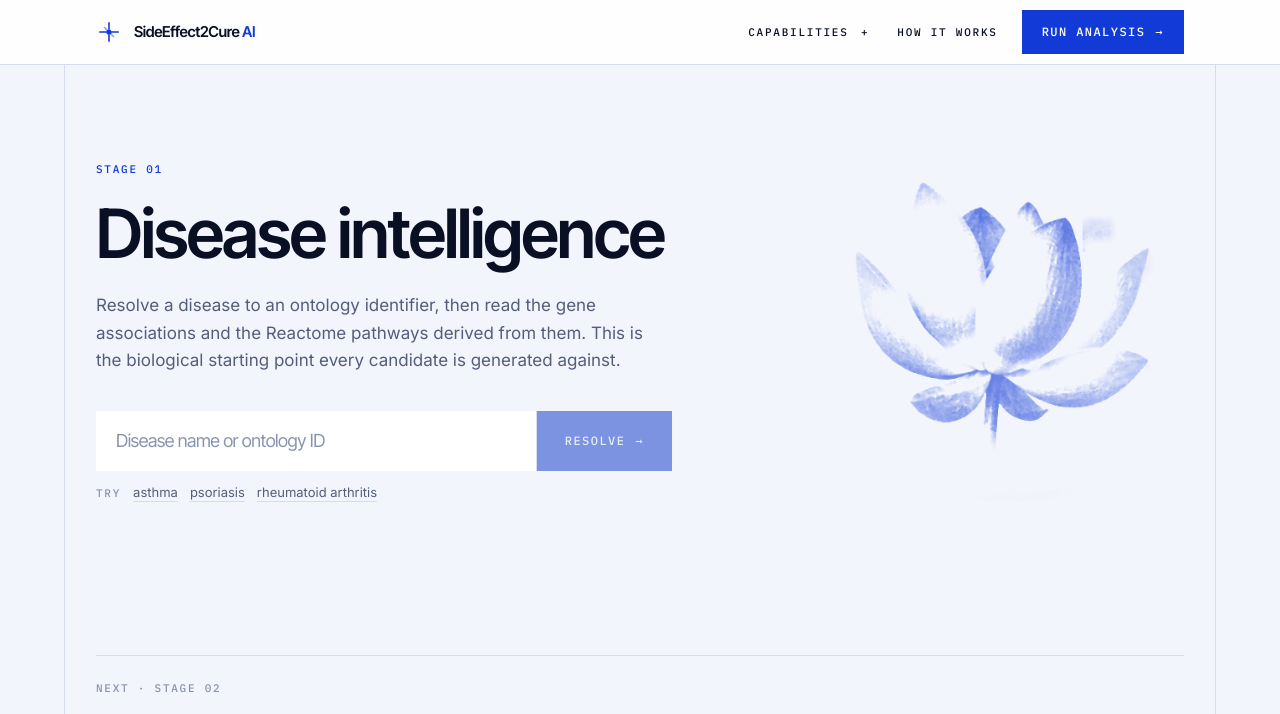
Test: disease intelligence › shows the resolved profile and its provenance
This screenshot has width=1280, height=714.
In the field labelled "Disease name or ontology ID": (316, 441) [96,411,536,471], type "glioblastoma"
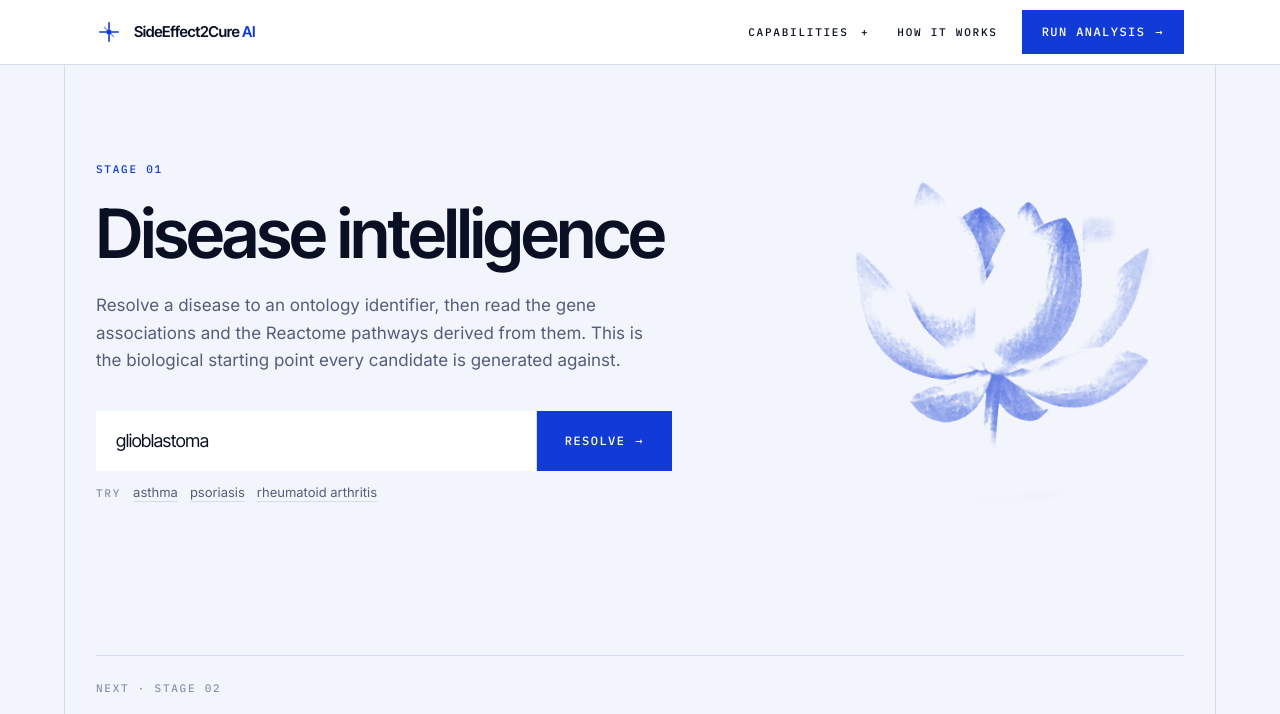
Click the button "Resolve →": (604, 441) [537,411,672,471]
(page scrolled)
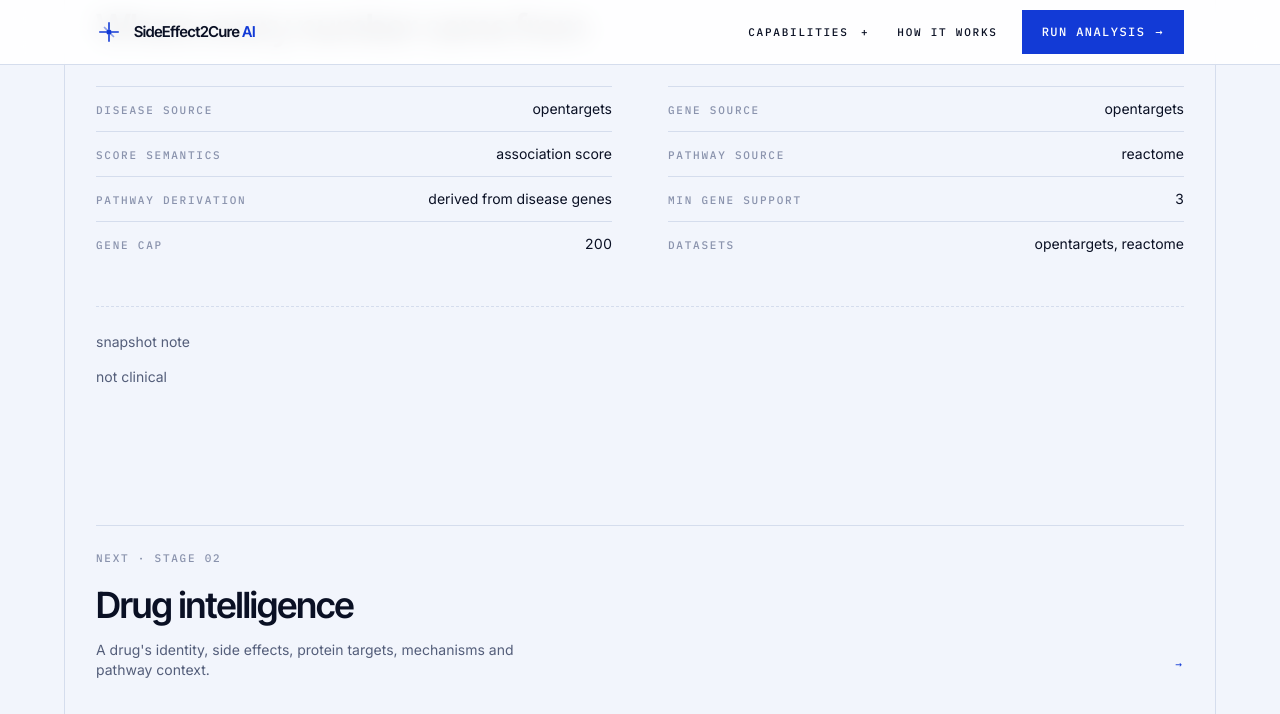
Now the text "snapshot note" is shown, box [96,333,190,350]
